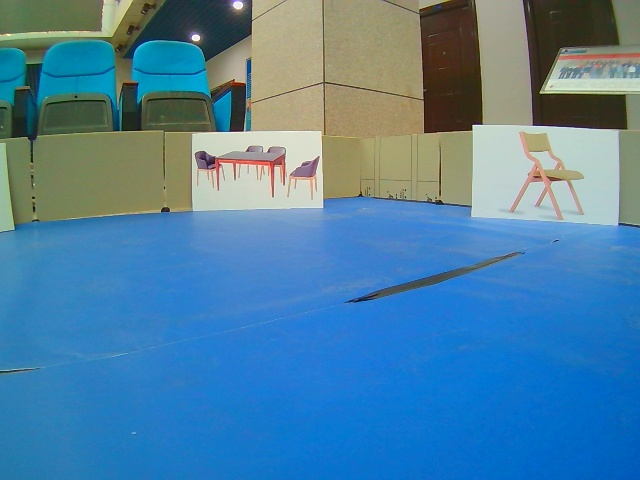table: (470, 124, 622, 228), (190, 131, 324, 213)
